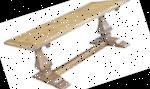Mesa: (0, 0, 148, 88)
